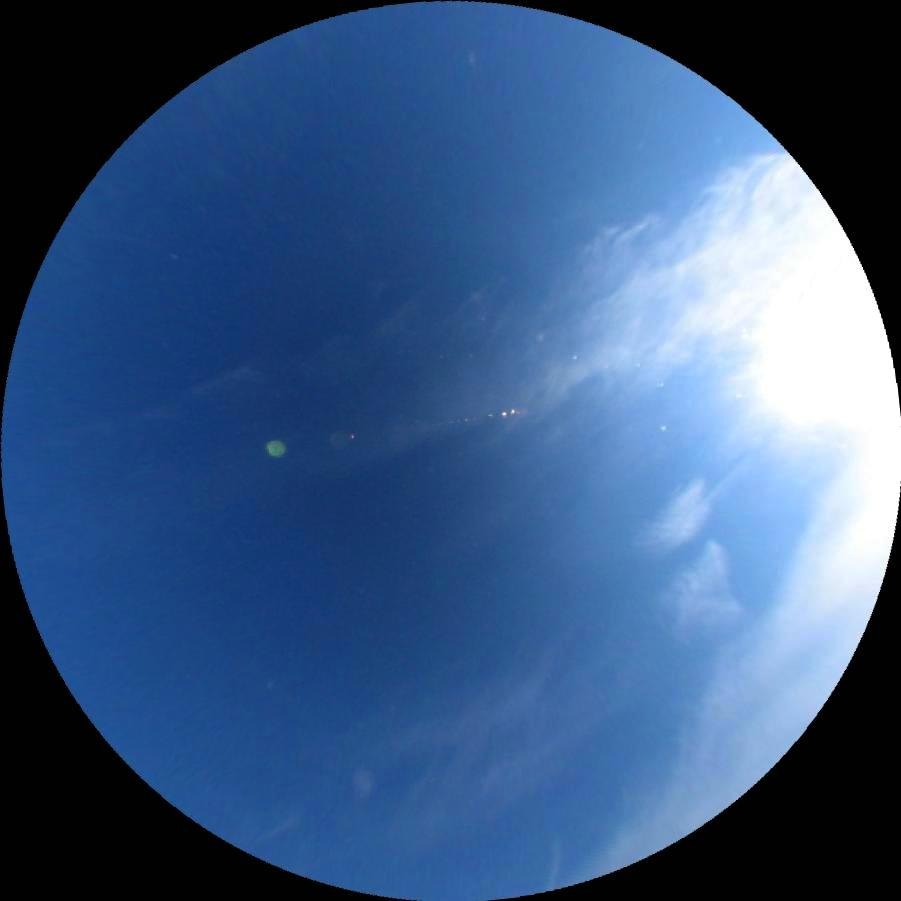contrail veryold: (85, 155, 833, 617), (618, 472, 756, 662)
unknow: (697, 457, 748, 512)
